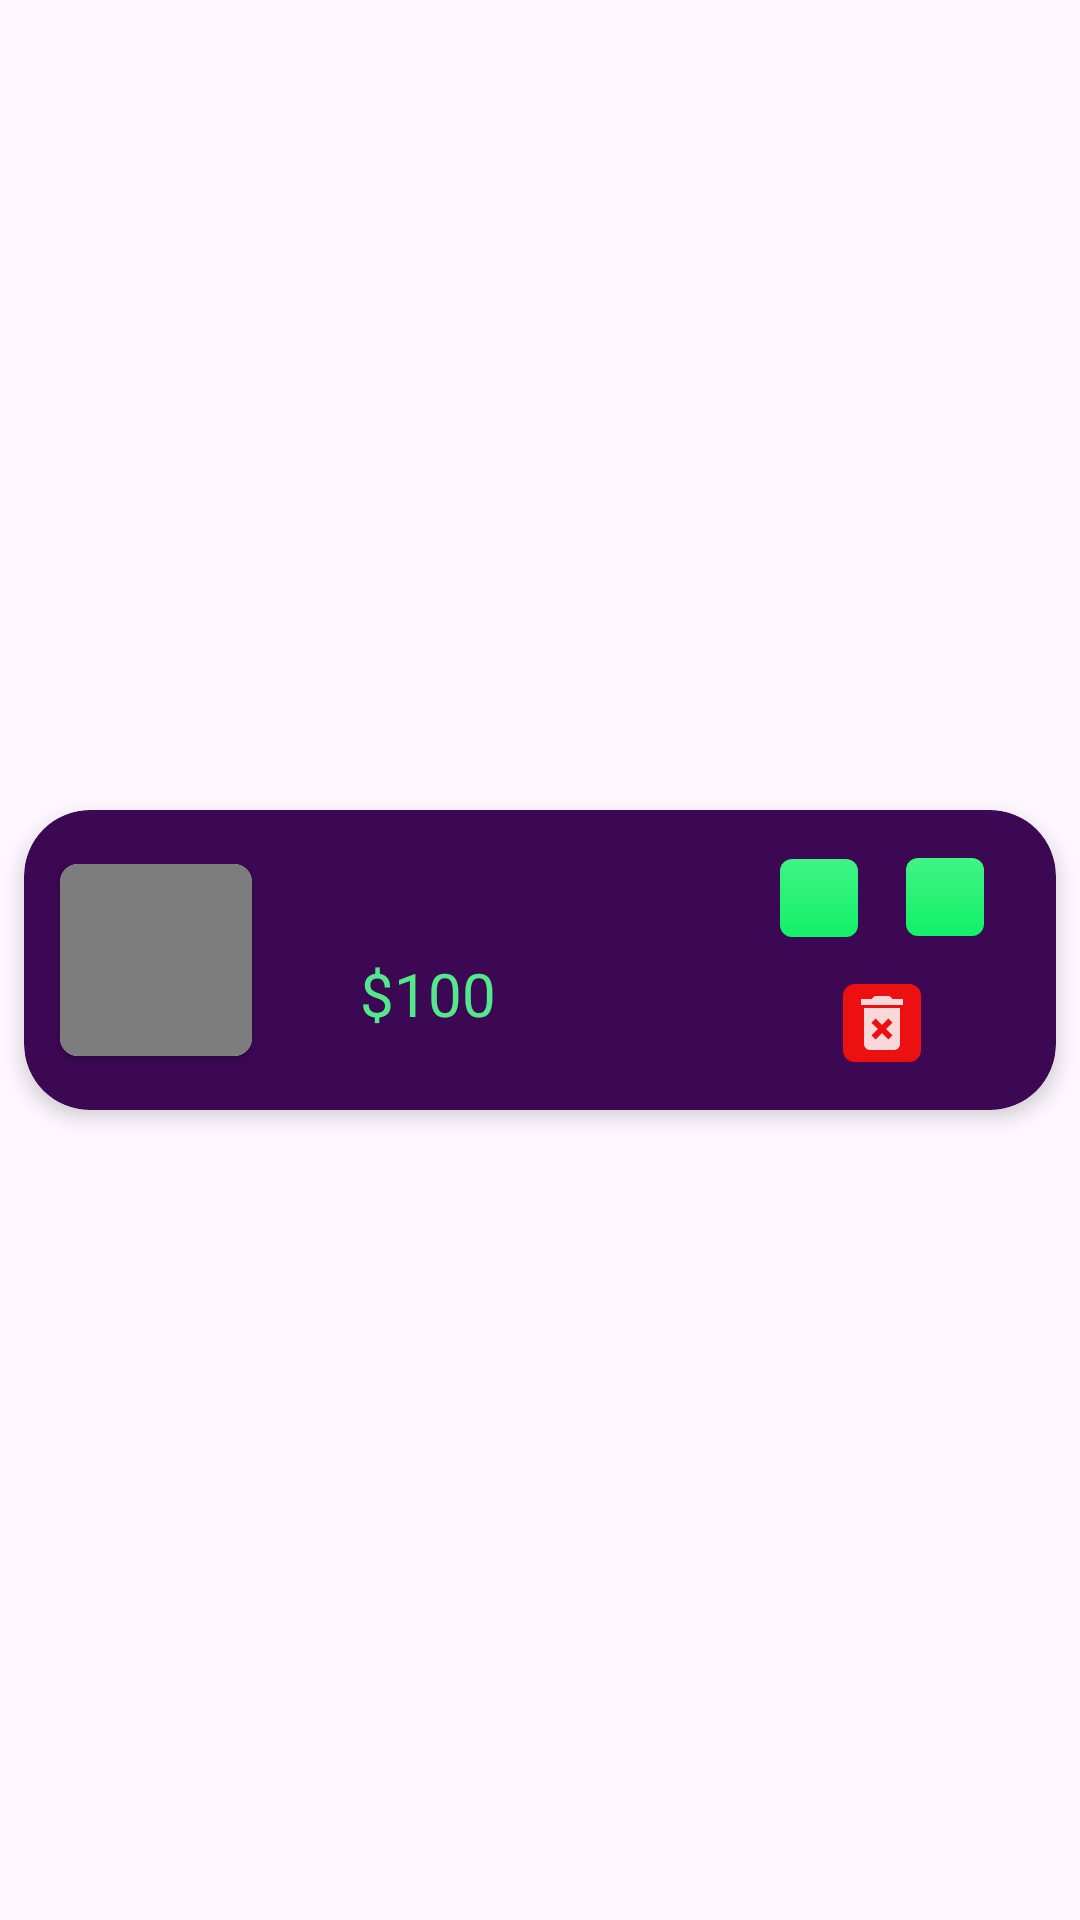

Locate icon controls on the screen. Image size 1080px×1920px, boxes as [x1,y1,x2,y2].
delete: [843,984,921,1062]
